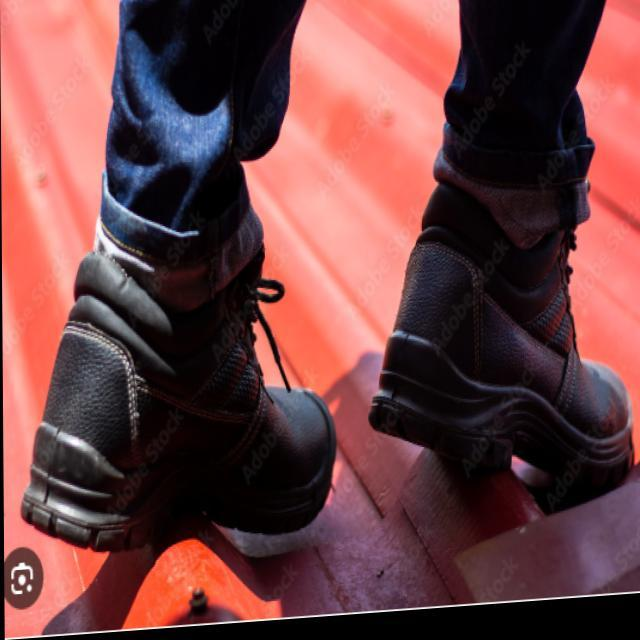shoes: (13, 143, 638, 581)
